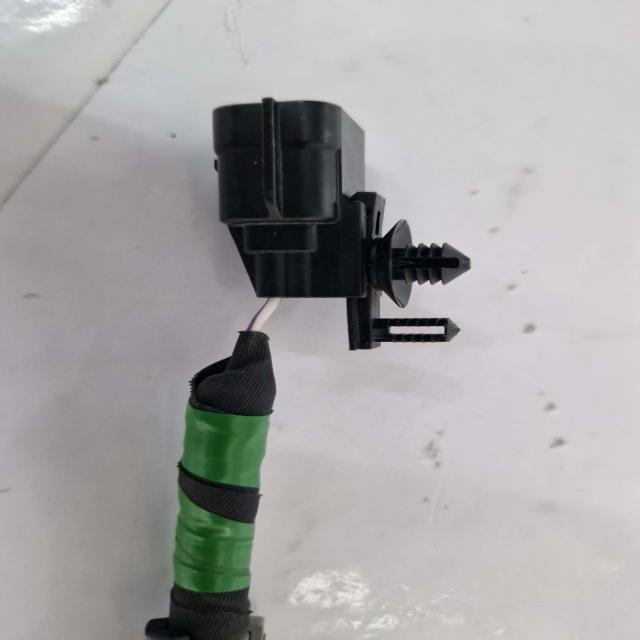AJ20_D6_Cable: (139, 339, 270, 640)
Clip: (349, 213, 471, 341)
Connector: (212, 93, 370, 294)
Gape: (246, 286, 282, 320)
